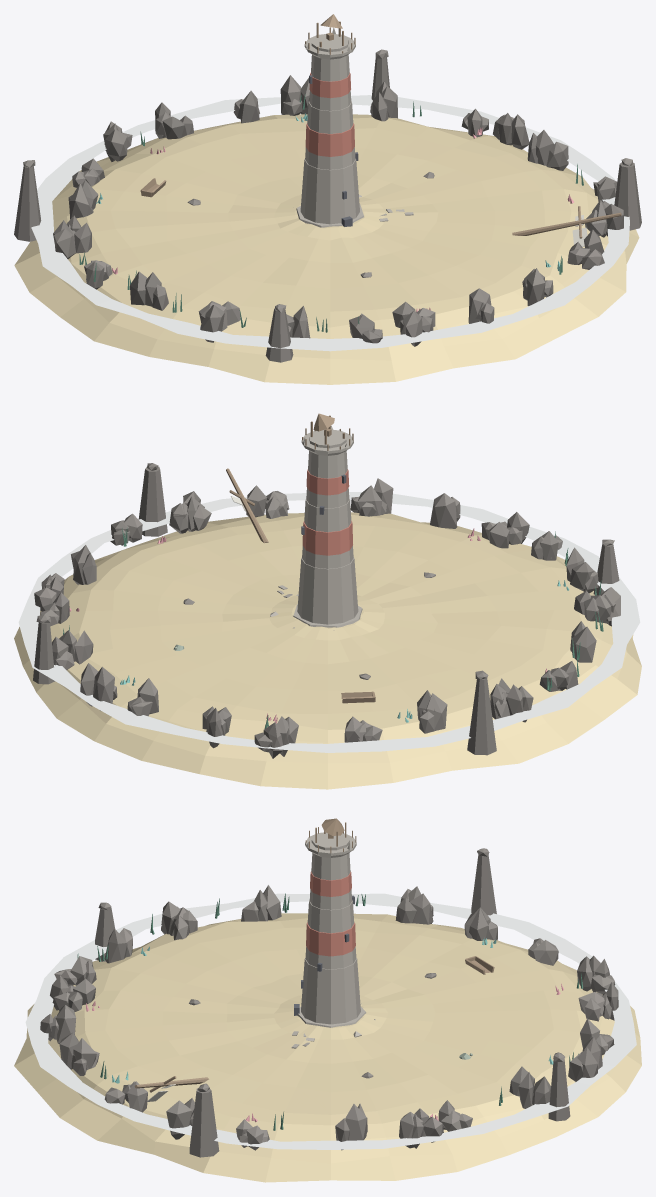
The model's file is arena_brinejaw.glb.
The picture shows the model from 3 angles, top to bottom: view 1: azimuth 30°, elevation 25°; view 2: azimuth 150°, elevation 25°; view 3: azimuth 270°, elevation 25°; orthographic projection. The views are drawn at different scales.
Visible parts, largest first — view 1: BrinejawArena_Base, BrinejawArena_Rocks, BrinejawArena_Foam, BrinejawArena_Spire, BrinejawArena_SeaStacks, BrinejawArena_SpireBand, BrinejawArena_Mast, BrinejawArena_Kelp; view 2: BrinejawArena_Base, BrinejawArena_Rocks, BrinejawArena_Foam, BrinejawArena_Spire, BrinejawArena_SeaStacks, BrinejawArena_SpireBand, BrinejawArena_SpireRail; view 3: BrinejawArena_Base, BrinejawArena_Rocks, BrinejawArena_Foam, BrinejawArena_Spire, BrinejawArena_SeaStacks, BrinejawArena_SpireBand, BrinejawArena_Kelp.
Boxes of the visible parts, x1=… form: BrinejawArena_Base: x1=14, y1=114, x2=639, y2=384; BrinejawArena_Rocks: x1=53, y1=75, x2=623, y2=346; BrinejawArena_Foam: x1=31, y1=95, x2=629, y2=351; BrinejawArena_Spire: x1=296, y1=28, x2=363, y2=227; BrinejawArena_SeaStacks: x1=14, y1=49, x2=641, y2=362; BrinejawArena_SpireBand: x1=305, y1=72, x2=354, y2=156; BrinejawArena_Mast: x1=512, y1=206, x2=621, y2=238; BrinejawArena_Kelp: x1=79, y1=94, x2=583, y2=332; BrinejawArena_Base: x1=14, y1=512, x2=641, y2=789; BrinejawArena_Rocks: x1=34, y1=478, x2=620, y2=758; BrinejawArena_Foam: x1=18, y1=492, x2=640, y2=752; BrinejawArena_Spire: x1=293, y1=426, x2=362, y2=627; BrinejawArena_SeaStacks: x1=33, y1=463, x2=619, y2=755; BrinejawArena_SpireBand: x1=302, y1=469, x2=352, y2=555; BrinejawArena_SpireRail: x1=302, y1=413, x2=353, y2=450; BrinejawArena_Base: x1=14, y1=913, x2=641, y2=1182; BrinejawArena_Rocks: x1=40, y1=885, x2=618, y2=1150; BrinejawArena_Foam: x1=25, y1=893, x2=636, y2=1149; BrinejawArena_Spire: x1=297, y1=832, x2=366, y2=1027; BrinejawArena_SeaStacks: x1=95, y1=848, x2=570, y2=1157; BrinejawArena_SpireBand: x1=306, y1=871, x2=355, y2=956; BrinejawArena_Kelp: x1=77, y1=893, x2=583, y2=1130.
Size of the model in its own units: 176 by 74.12 by 177.
